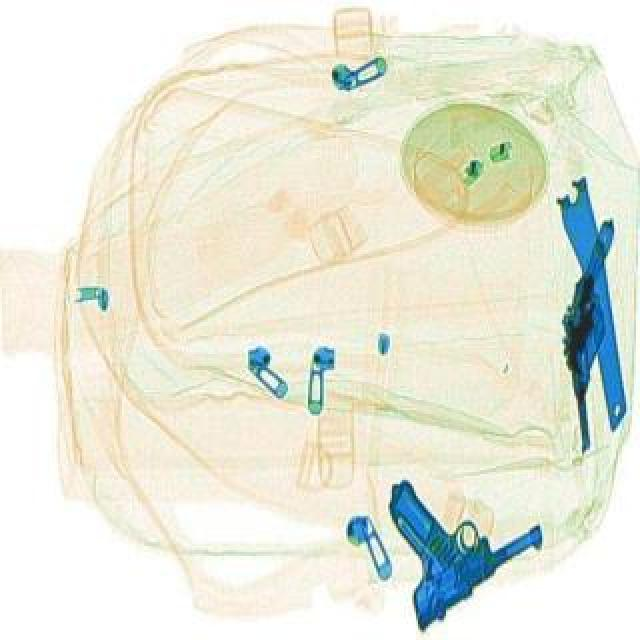gun: (342, 440, 564, 636), (552, 224, 640, 456)
